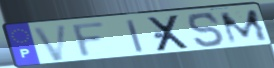F: (70, 20, 109, 59)
I: (124, 18, 146, 54)
M: (217, 8, 271, 46)
S: (187, 11, 227, 49)
V: (31, 23, 70, 63)
X: (146, 13, 193, 53)
